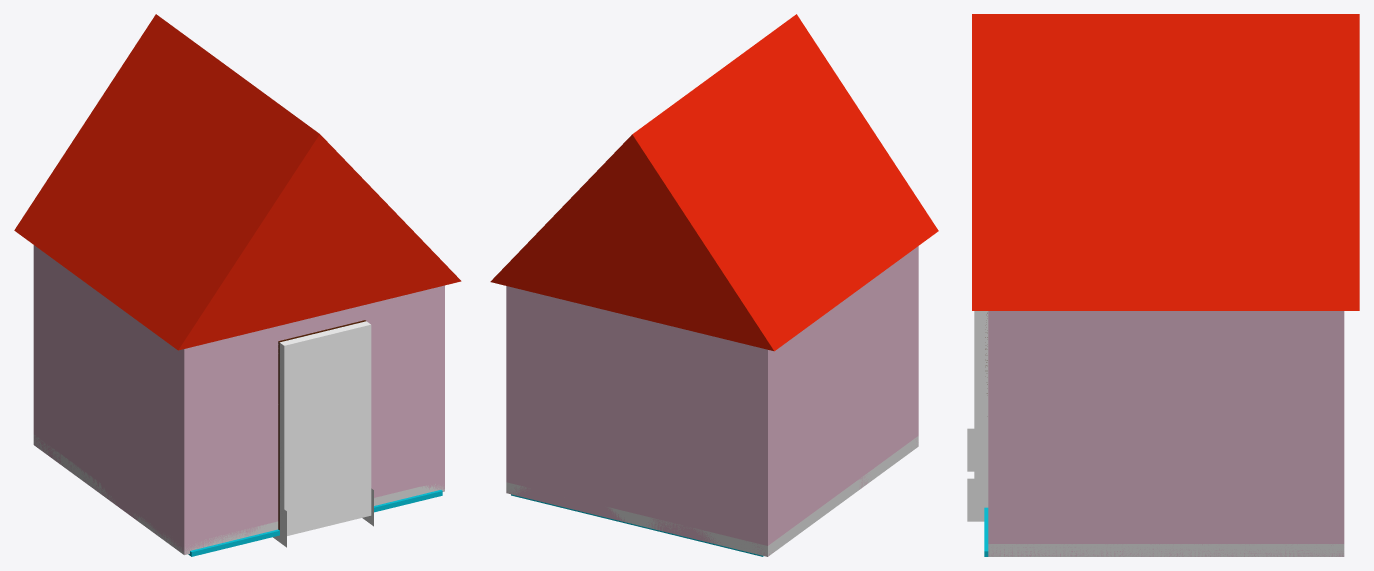
The model's file is hause.glb.
3 renders of one model, left to right at view 1: azimuth 30°, elevation 25°; view 2: azimuth 150°, elevation 25°; view 3: azimuth 270°, elevation 25°, orthographic. The views are drawn at different scales.
Parts seen in each view (by area): view 1: Techo, Room, CTRL_Hole-noimp, Baseboard, Suelo, DoorFrame; view 2: Room, Techo, Baseboard; view 3: Techo, Room, Baseboard, CTRL_Hole-noimp, CTRL_Baseboard-noimp.
Boxes of the visible parts, x1,y1,x2,y2 form: Techo: [14, 14, 461, 350]; Room: [33, 245, 444, 554]; CTRL_Hole-noimp: [278, 321, 371, 536]; Baseboard: [33, 435, 444, 554]; Suelo: [188, 490, 442, 556]; DoorFrame: [278, 320, 365, 529]; Room: [506, 246, 918, 556]; Techo: [490, 14, 938, 351]; Baseboard: [506, 436, 918, 556]; Techo: [972, 14, 1359, 310]; Room: [988, 311, 1344, 556]; Baseboard: [988, 544, 1344, 556]; CTRL_Hole-noimp: [974, 311, 988, 501]; CTRL_Baseboard-noimp: [967, 428, 988, 521].
Bounding box in the file's own units: 35.6 × 48.44 × 36.04.
